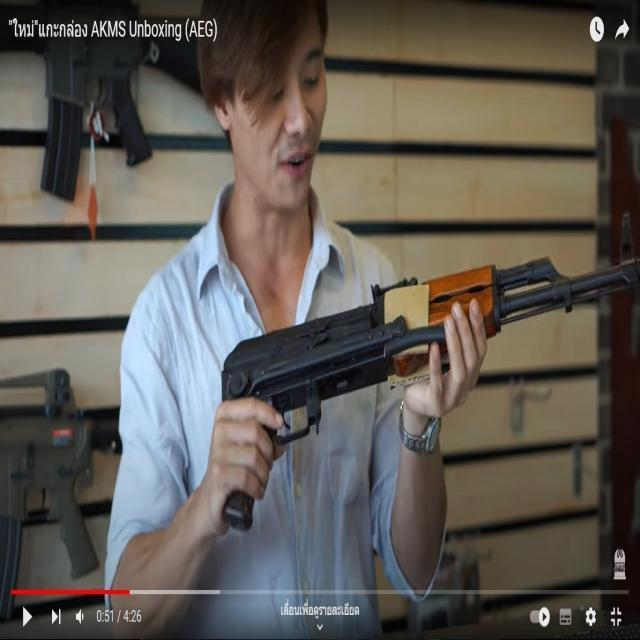ak: (210, 238, 640, 540)
